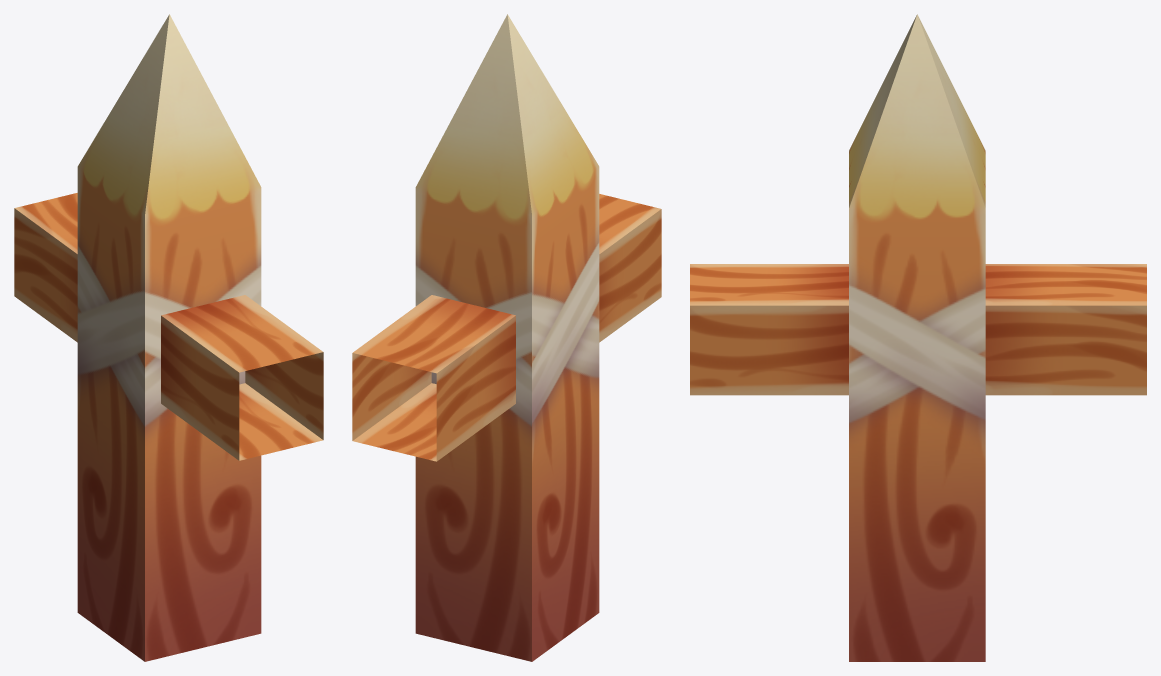
File: Fences_Stright.FBX
3 renders of one model, left to right at view 1: azimuth 30°, elevation 25°; view 2: azimuth 150°, elevation 25°; view 3: azimuth 270°, elevation 25°, orthographic.
Parts seen in each view (by area): view 1: Fences_Stright; view 2: Fences_Stright; view 3: Fences_Stright.
Part boxes in pixels (<box>): Fences_Stright: <box>14,14,323,661</box>; Fences_Stright: <box>352,14,661,661</box>; Fences_Stright: <box>690,14,1146,661</box>.
Size of the model in its own units: 0.3 by 1.5 by 1.
